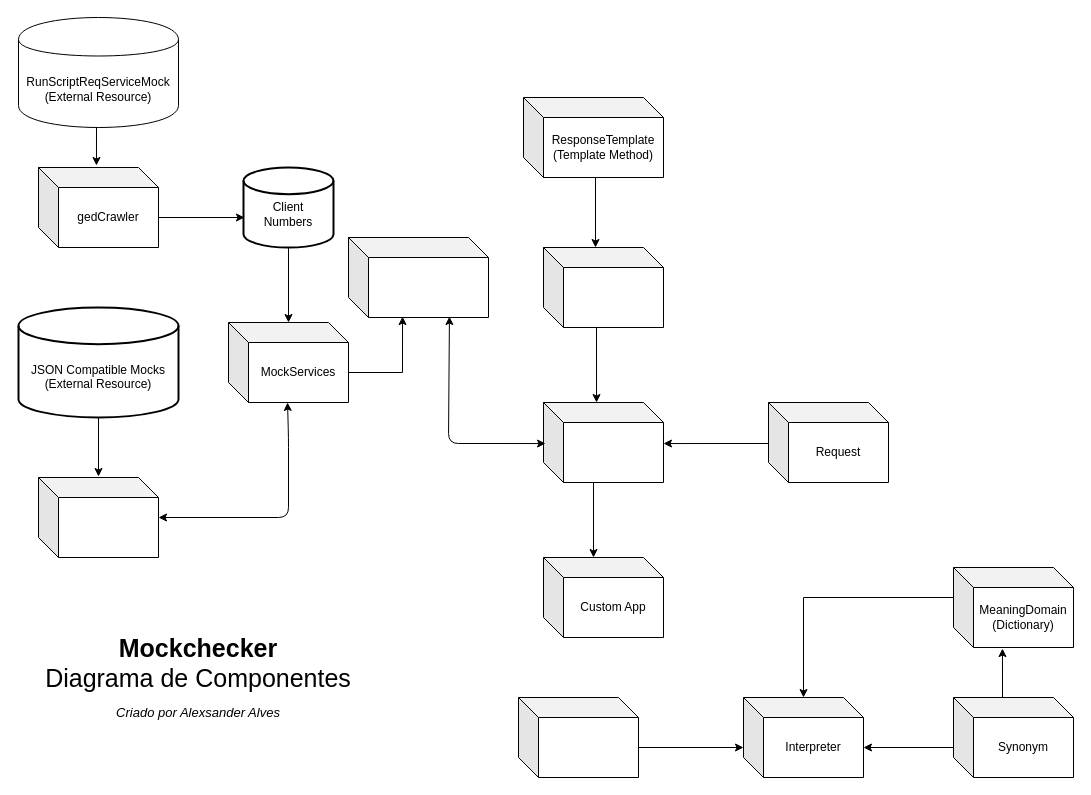
This 1091x795 diagram has some shape labels left out. Each missing label, with the box of its shape:
"InputLayer" (Command) (A implementar): (518, 696, 638, 778)
Mockchecker App: (542, 402, 664, 482)
MockExplorer: (38, 476, 158, 558)
ReportResponse: (542, 246, 664, 328)
ServiceRepository: (348, 236, 488, 318)
